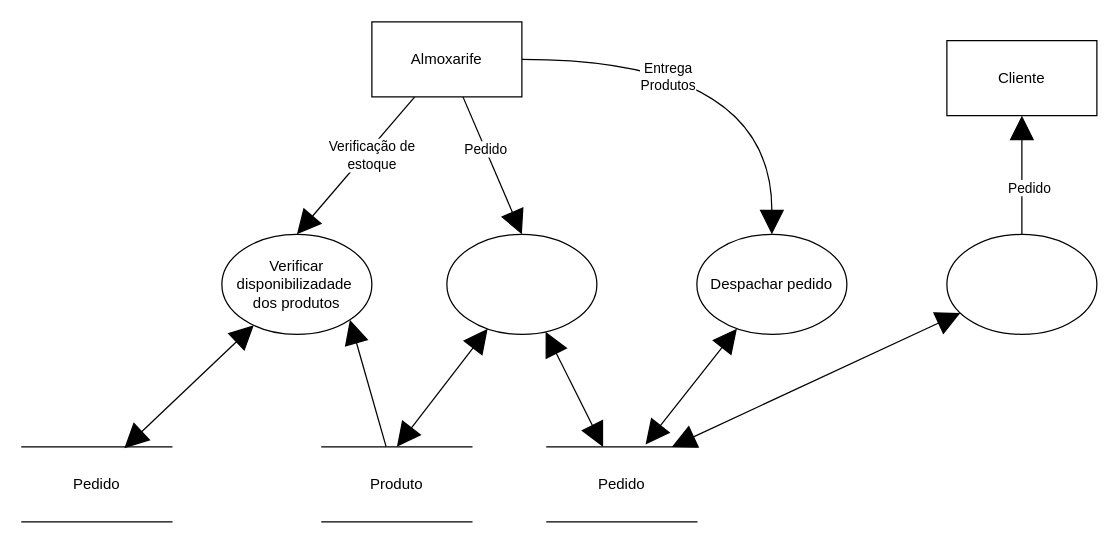
Some shapes in this 1119 by 544 pixel diagram are drawn without their labels. Here are the shapes that lost their labels. From the top down, the centre of each, then its label:
At pixel 521 283: "Preparar pedido".
At pixel 1021 283: "Entrega pedido".
